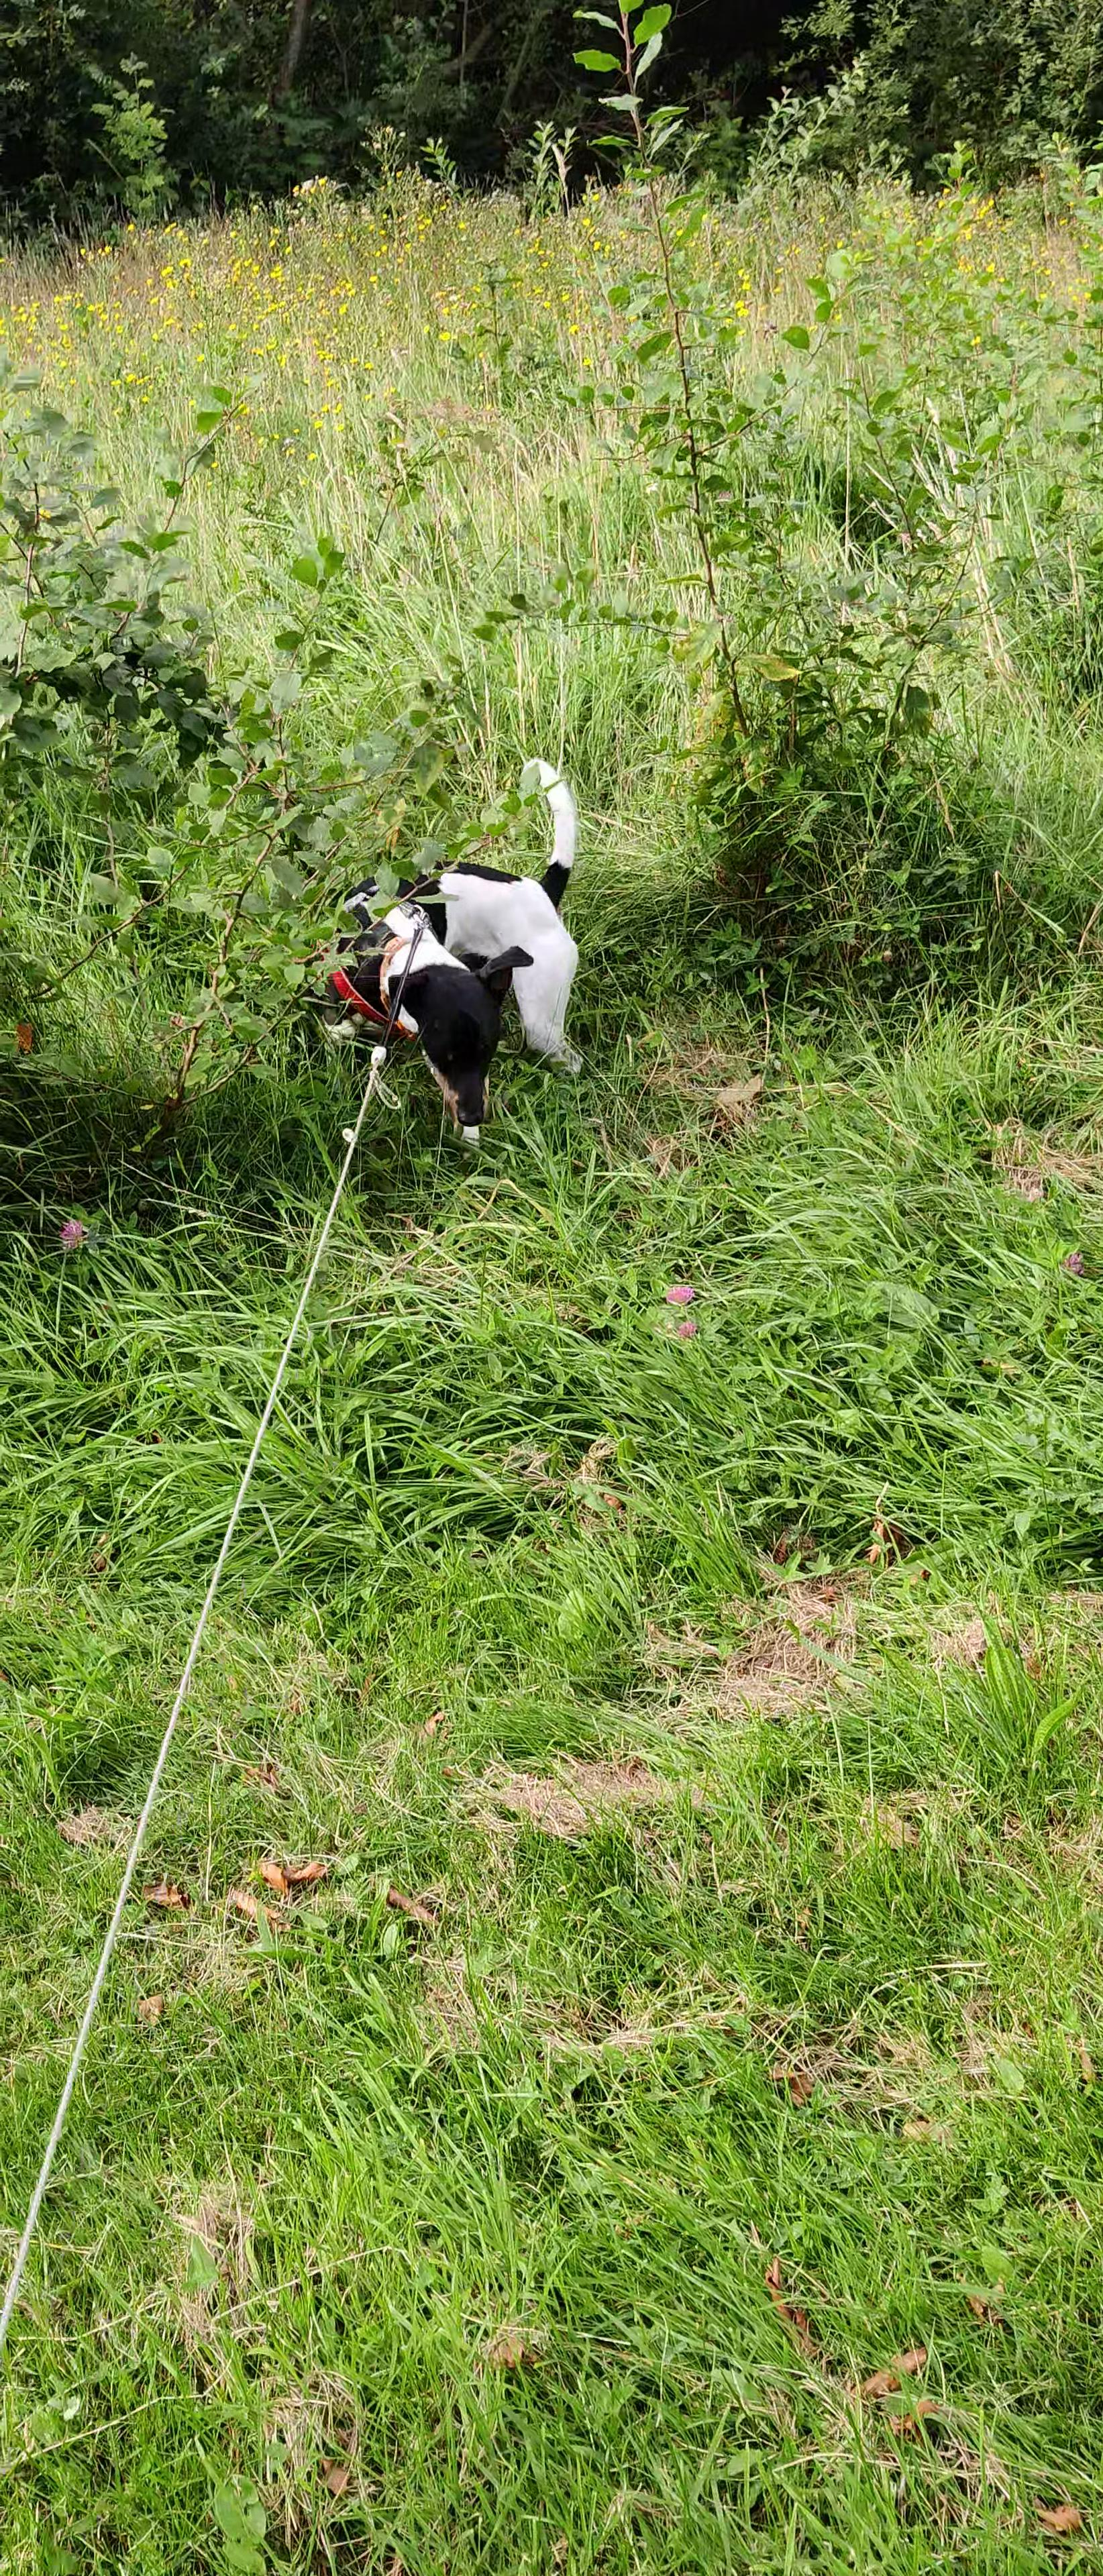Dog: (289, 746, 592, 1145)
